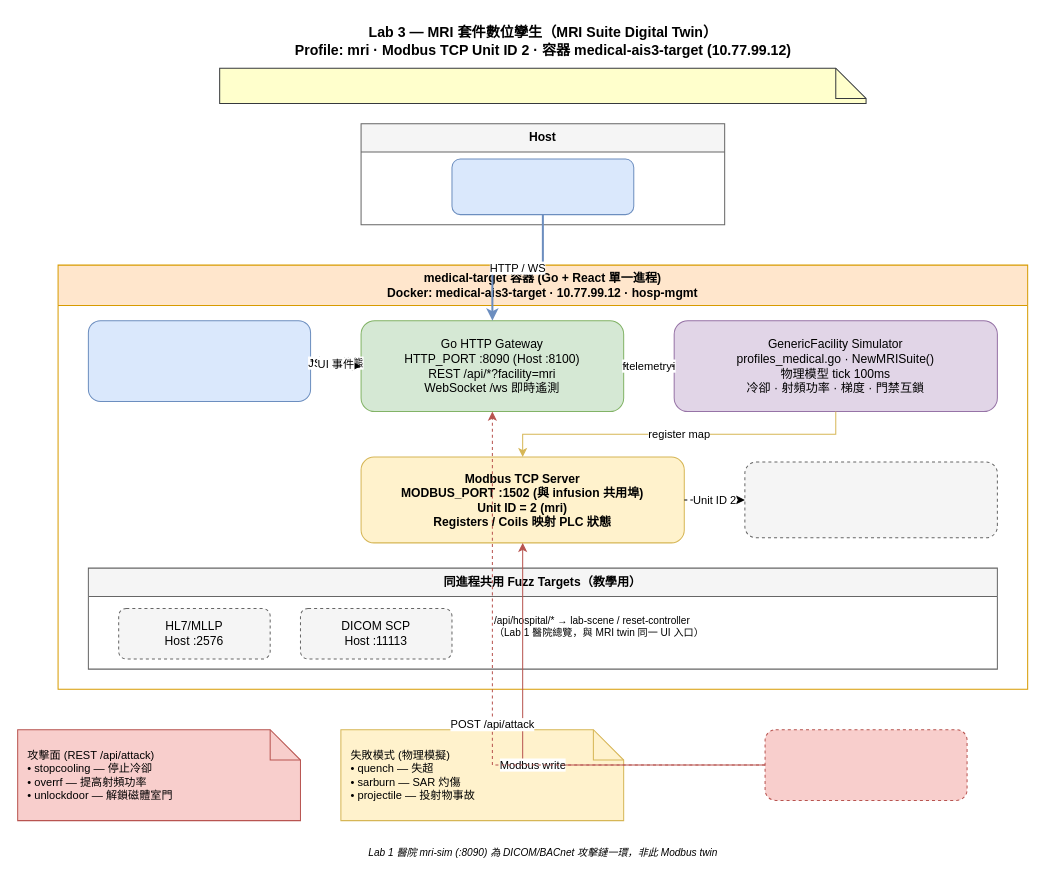
Image size: 1045x883. Some labels were removed from this diagram. Each missing label, with the centre of its shape:
"Browser http://127.0.0.1:8100 （MRI 套件場景）" belongs at point 542,186.
"Modbus Unit ID 路由 Unit 1 → infusion (Lab 2) Unit 2 → mri (Lab 3)" belongs at point 870,499.
"React / R3F 前端 MRIScene.tsx 3D MRI 機房 · 冷卻 · RF · 梯度 · 門禁" belongs at point 199,360.
"外部攻擊者 Modbus :1502 Unit 2 或 REST API" belongs at point 865,764.
"注意：此為獨立 Modbus PLC 教學靶，與 Lab 1 Docker 服務 mri-sim / bms / chiller-sim 分開" belongs at point 542,85.
